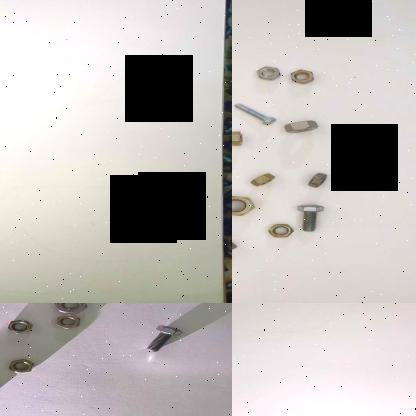Bolts: (232, 98, 280, 124), (146, 322, 186, 352), (296, 200, 326, 233)
NUTS: (280, 116, 323, 134), (303, 167, 333, 188), (288, 66, 316, 86), (3, 318, 36, 334), (232, 194, 255, 216), (266, 220, 294, 238), (7, 357, 40, 372), (245, 172, 280, 186), (54, 314, 85, 328), (254, 65, 282, 79), (53, 303, 87, 313), (232, 126, 247, 146), (232, 239, 243, 259)
